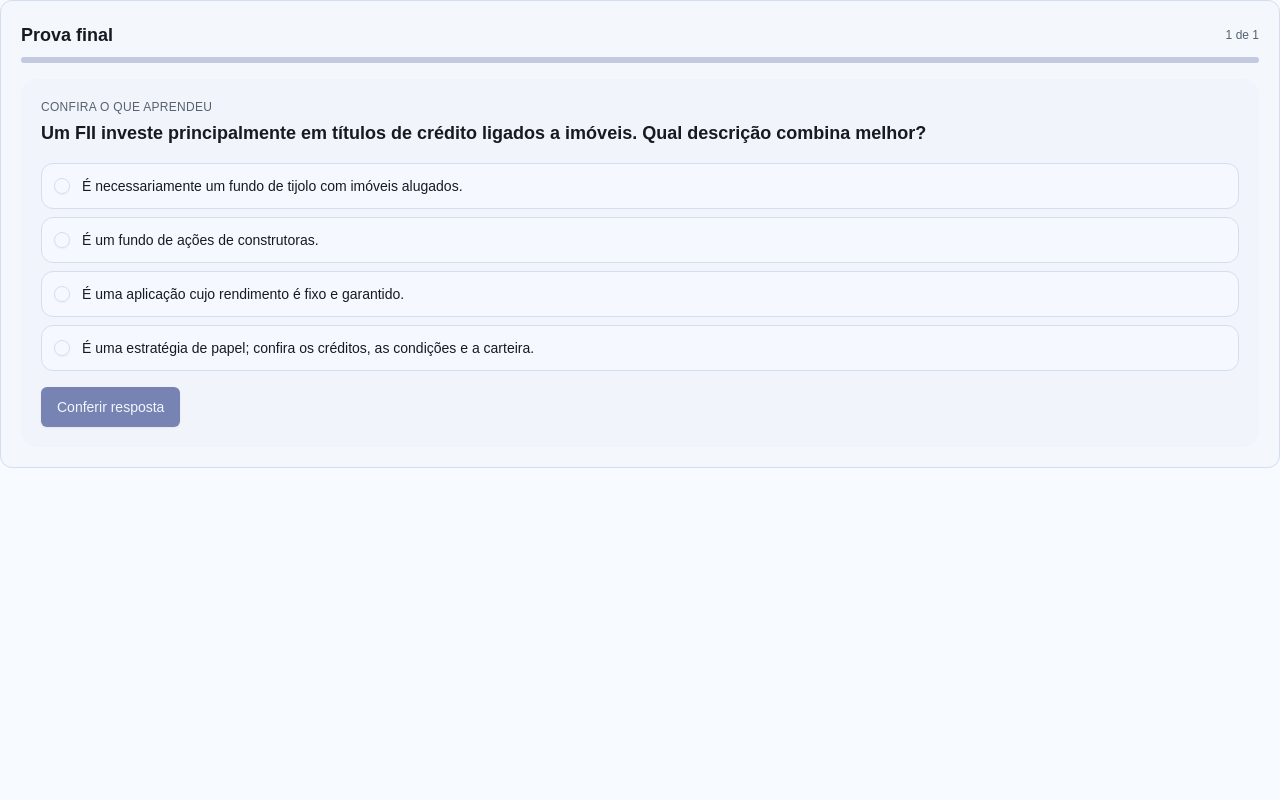
AssetClassLearningAssessment › does not celebrate a passing result that was not persisted
Click the 4th radio button named "É uma estratégia de papel; confira os créditos, as condições e a carteira.". click: (62, 348)
box: [54,340,70,356]
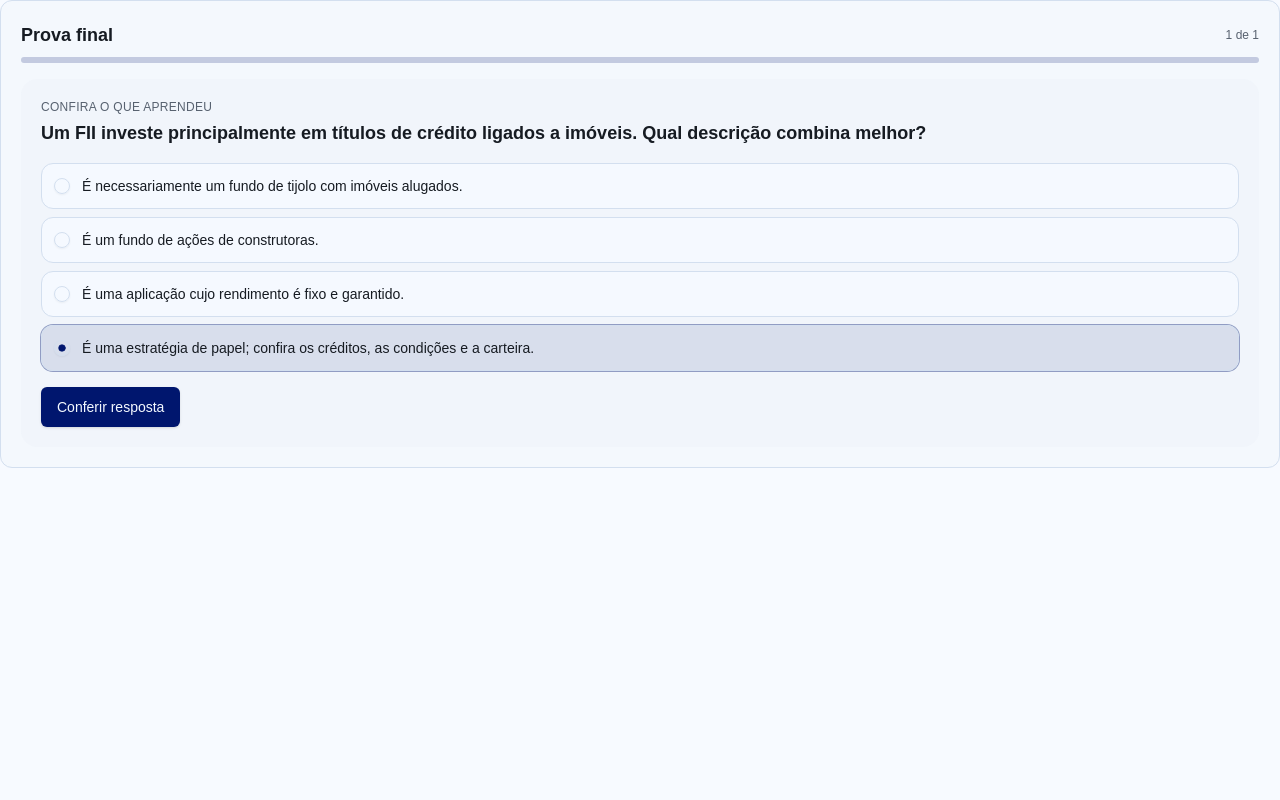
Click the button "Conferir resposta". click: (111, 407)
box: [41,387,180,427]
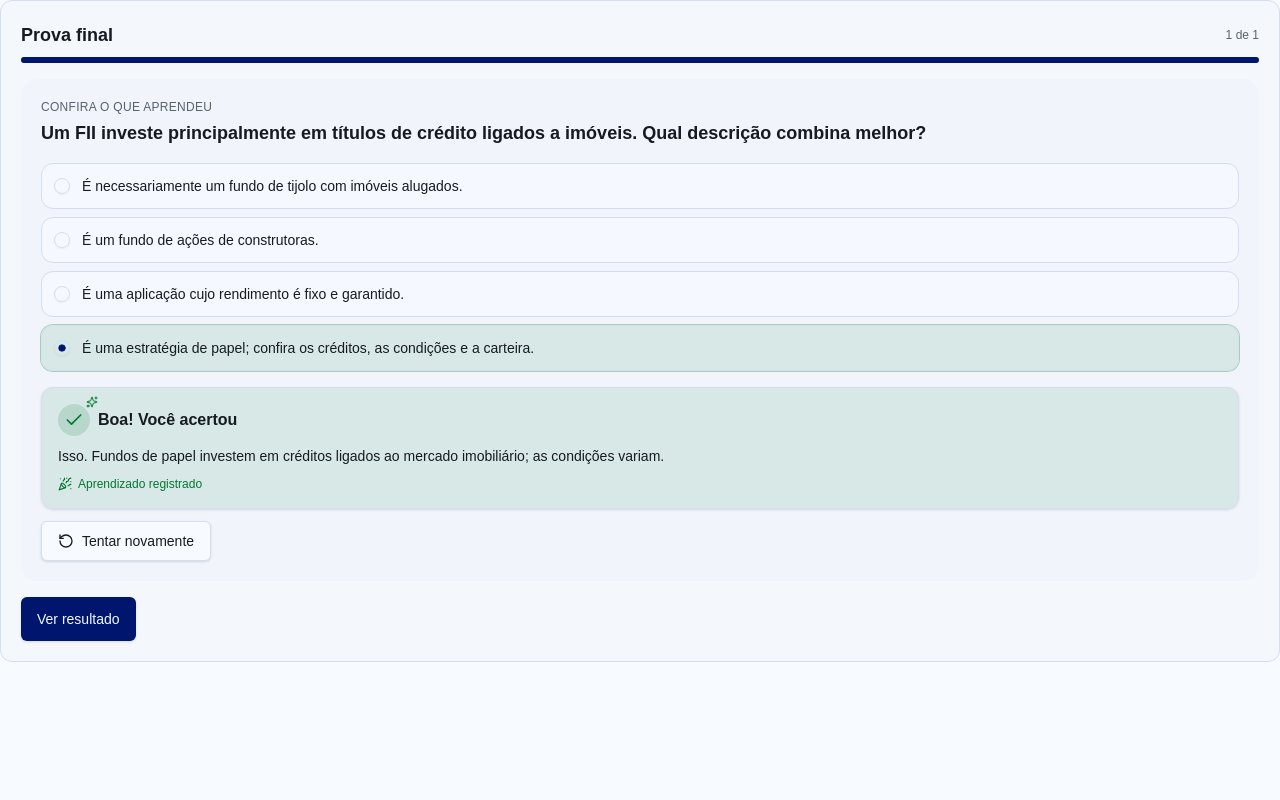
Click the button "Ver resultado". click: (78, 619)
box: [21,597,136,641]
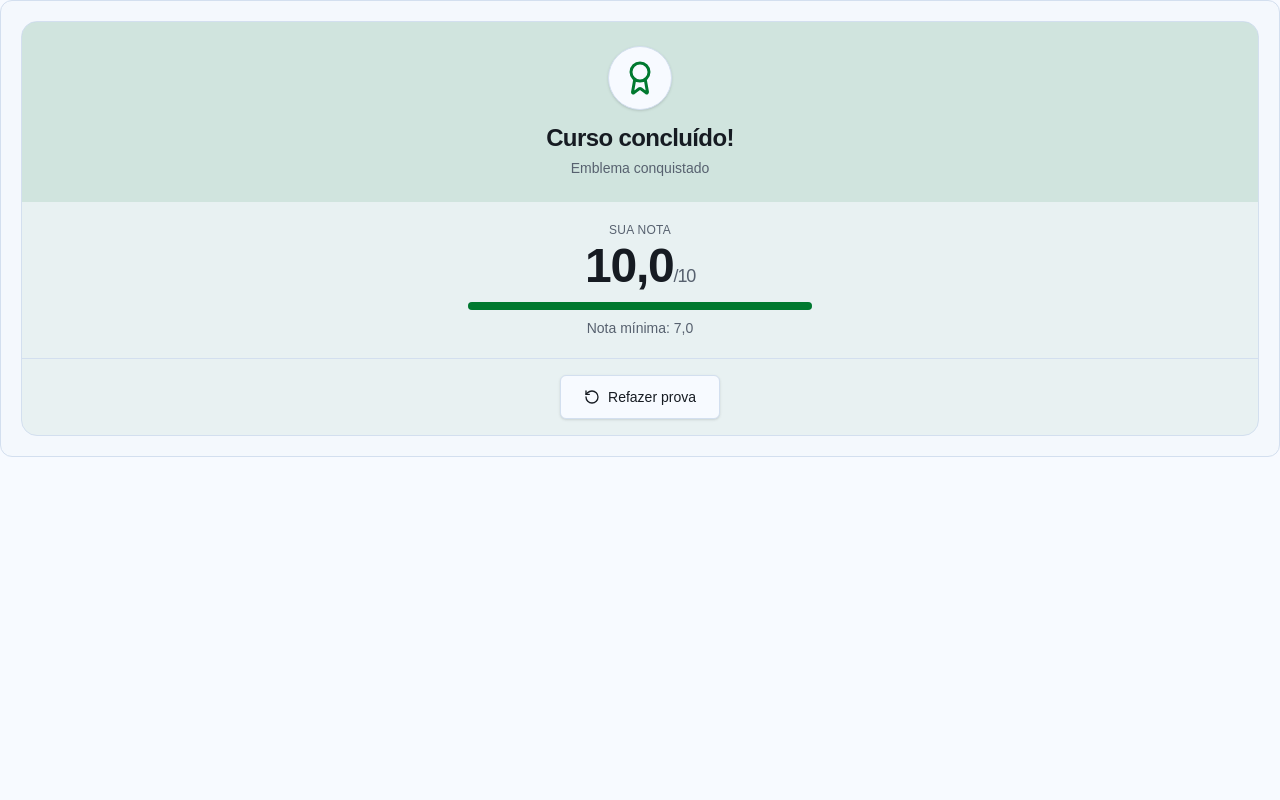
Expected: the heading "Curso concluído!" is shown, [546,124,734,151]
